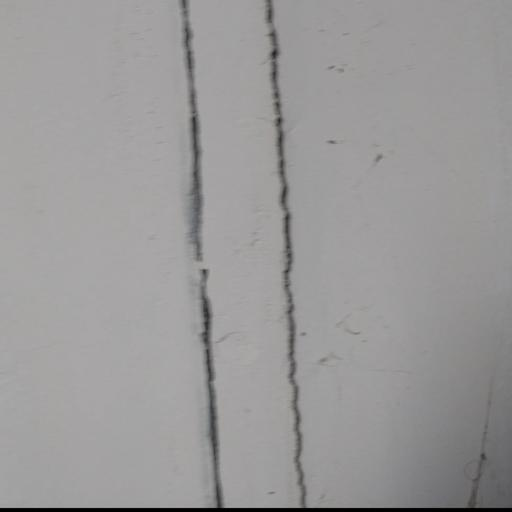major_crack: (174, 0, 239, 512), (256, 0, 314, 505)
